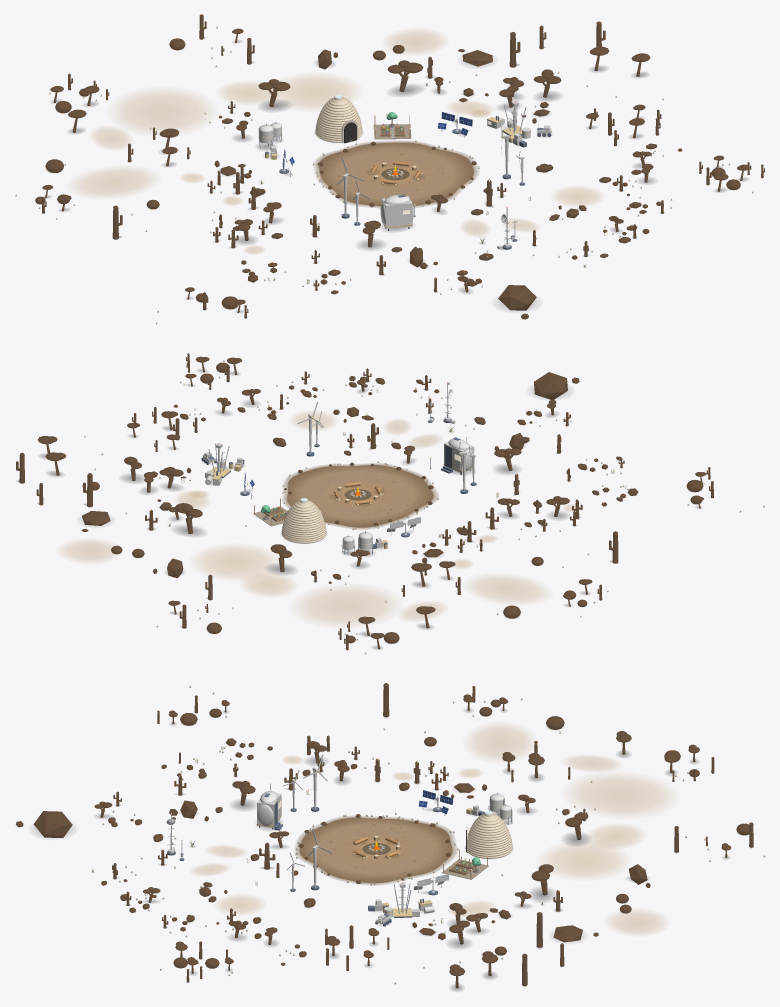
The picture shows the model from 3 angles, top to bottom: view 1: azimuth 30°, elevation 25°; view 2: azimuth 150°, elevation 25°; view 3: azimuth 270°, elevation 25°; orthographic projection. The views are drawn at different scales.
Size of what is drawn, in the model's own units: 106 by 9.94 by 110.
Materials: 78 (5 with a texture image).
